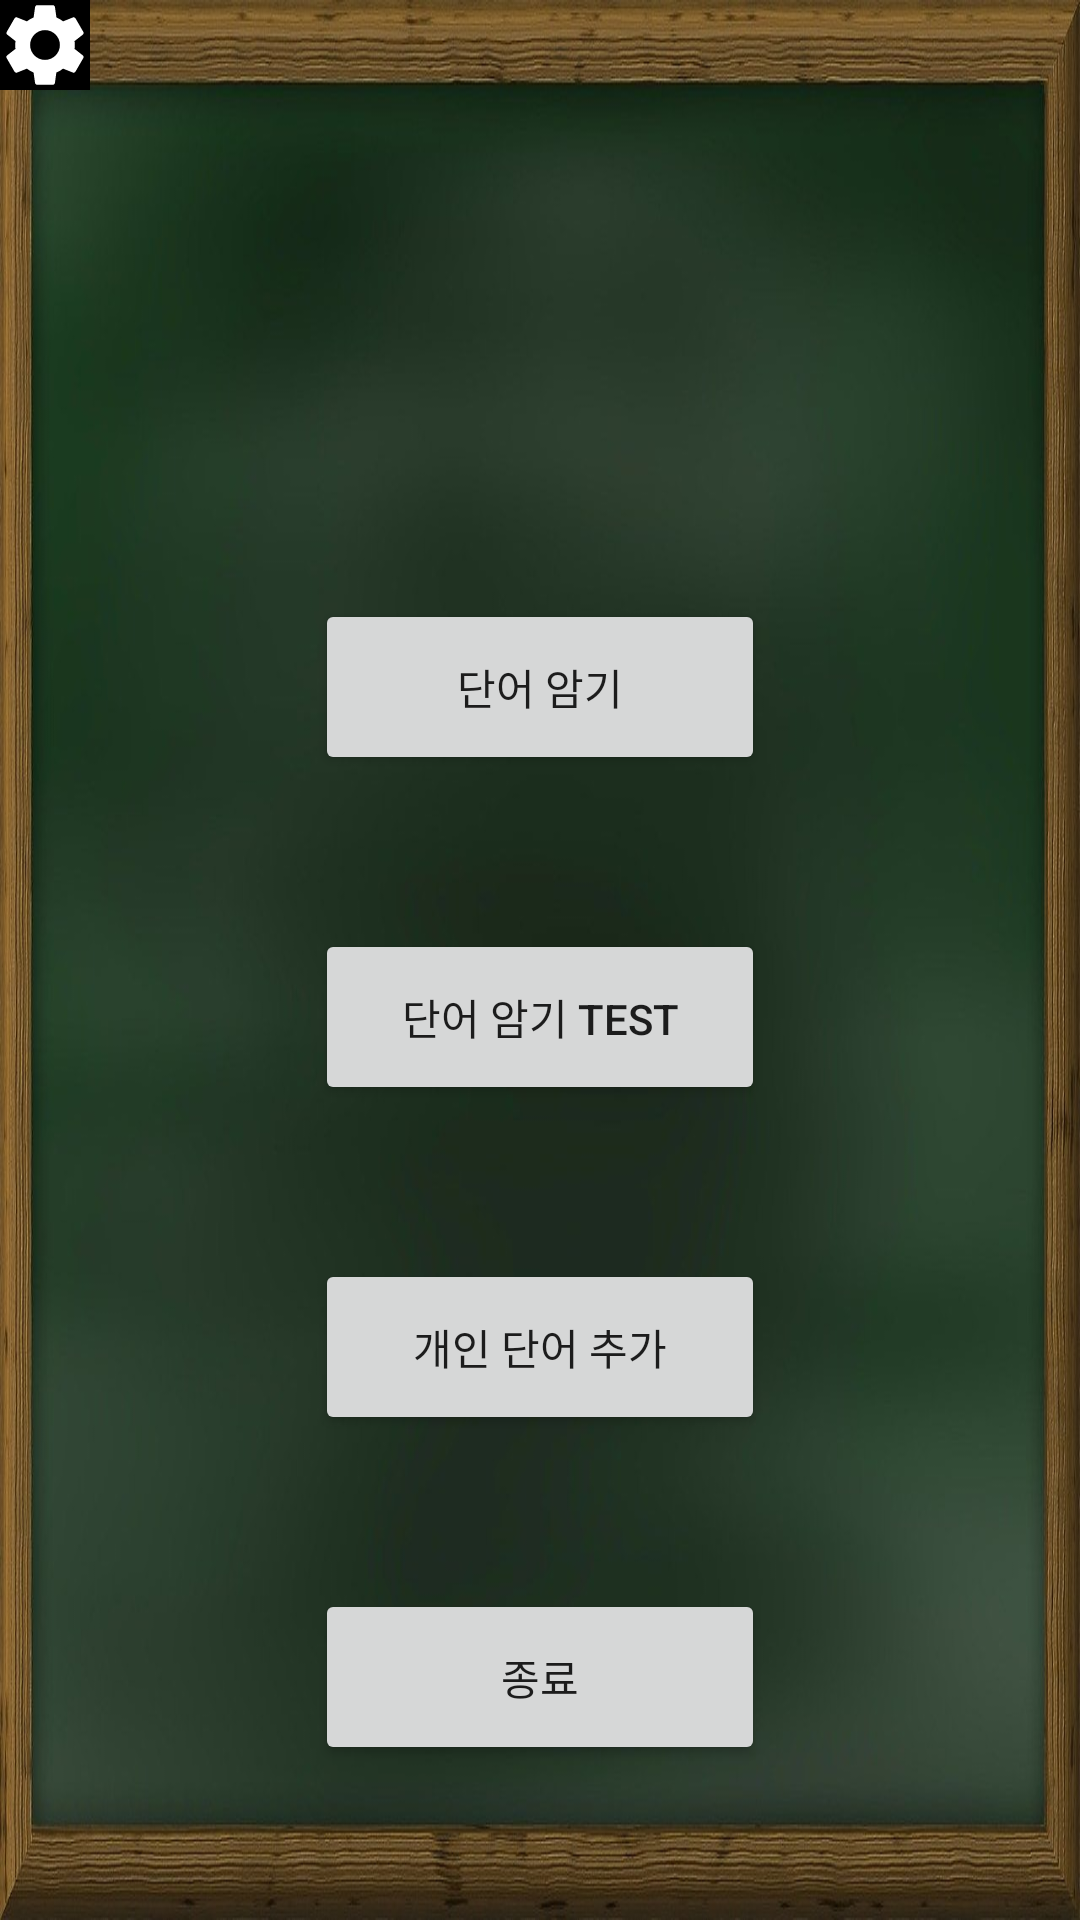

Icons on this 1080px x 1920px Android screen, each with the point to tap as point (x, y):
settingicon: point (45, 45)
